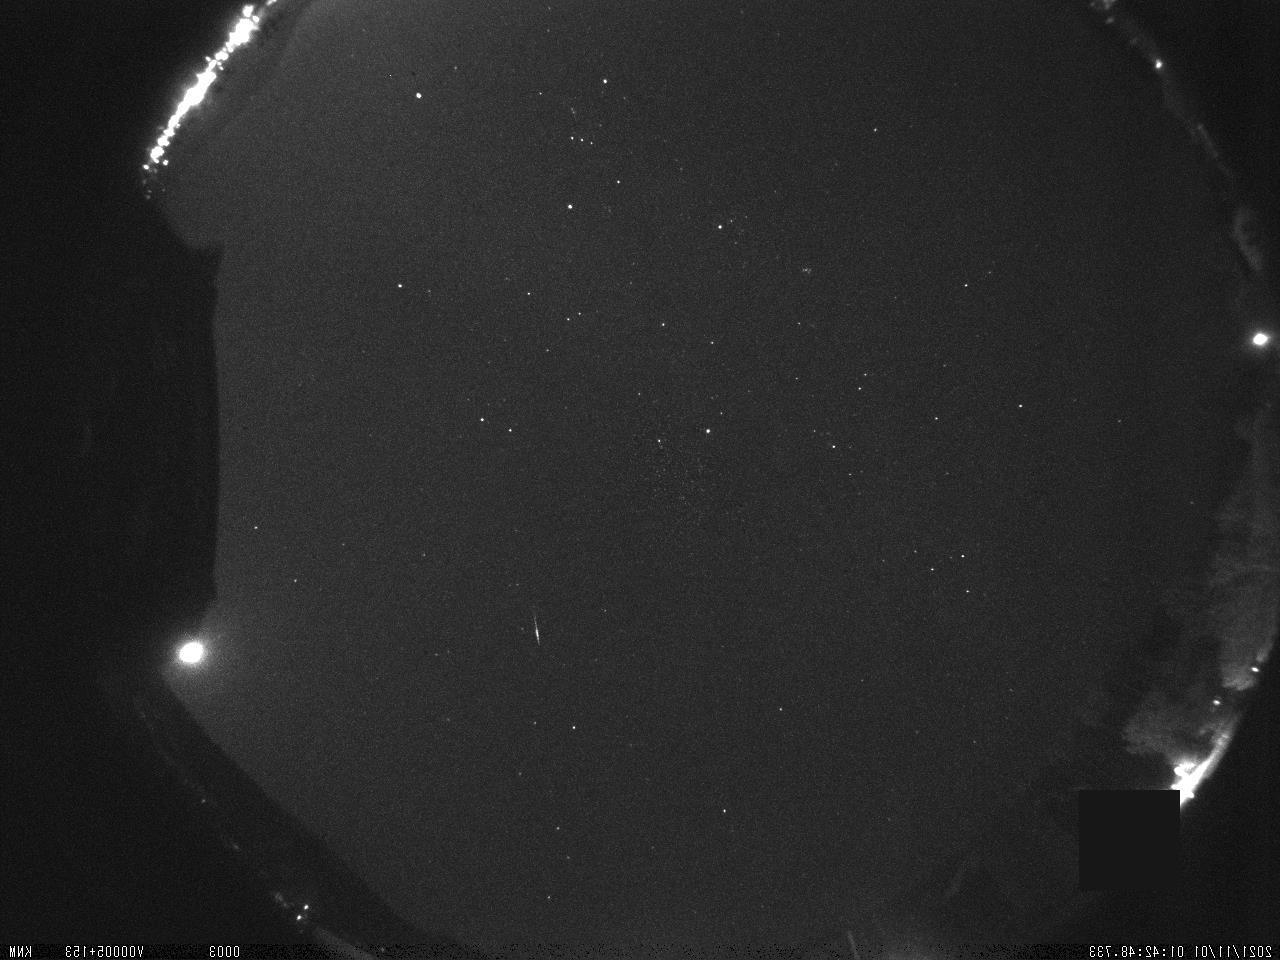meteor: (509, 592, 565, 665)
